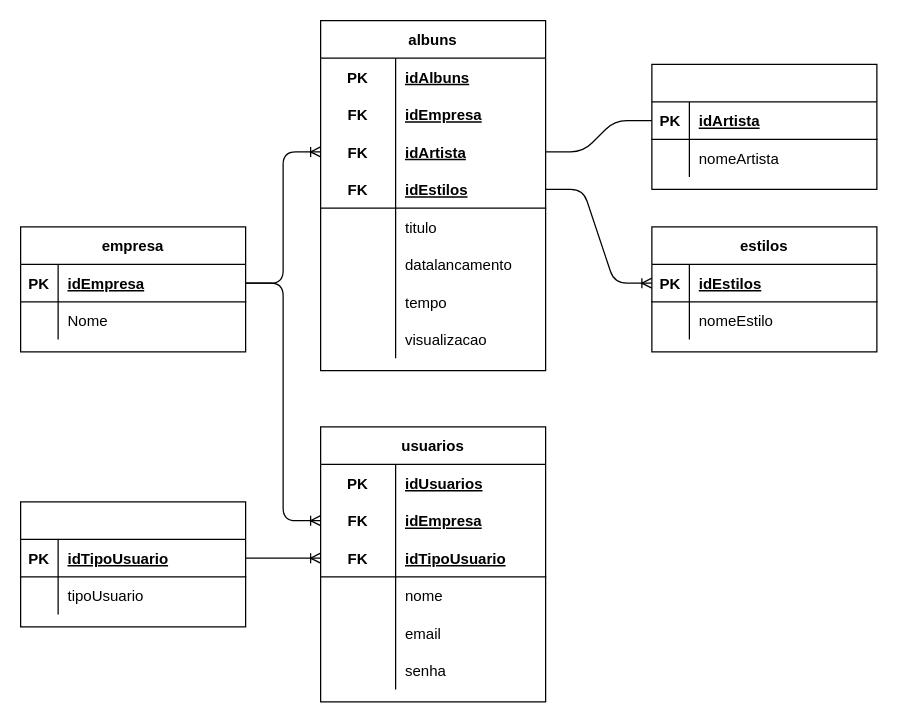
The diagram is 898 pixels wide and 723 high, and some of its shapes have lost their labels. The shapes that lost their labels are listed below. From the top down, each one's box as (x1, y1, x2, y2) in pixels, then its label:
(651, 63, 877, 189): artistas
(19, 501, 246, 627): tiposUsuarios
